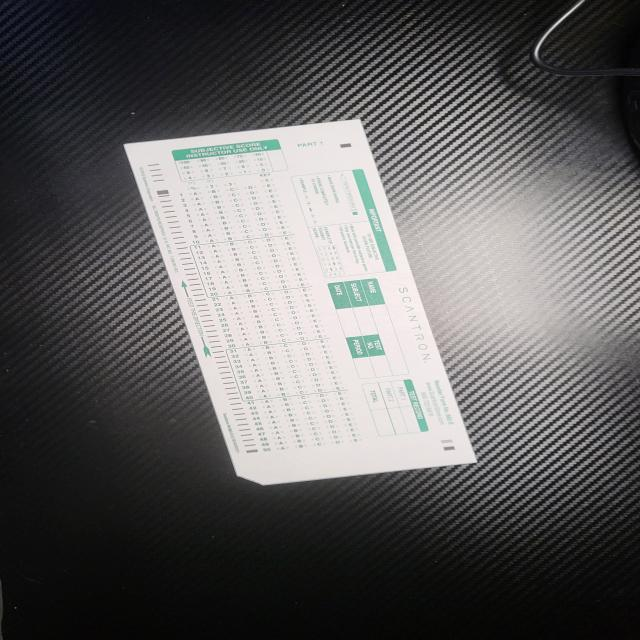scantron: (125, 119, 477, 485)
